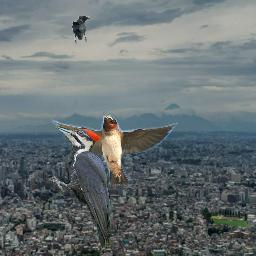Crow: (72, 15, 90, 44)
Swallow: (49, 115, 178, 187)
Woodpecker: (47, 125, 116, 252)
